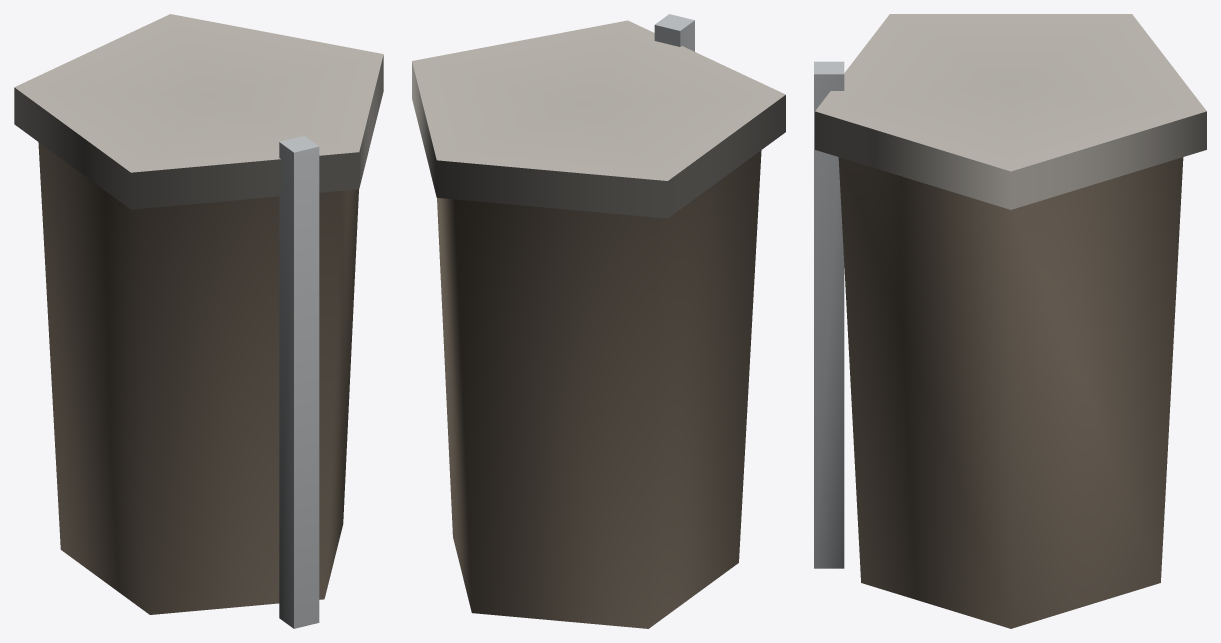
The model's file is litter_bin_park.lod2.glb.
The picture shows the model from 3 angles, left to right: view 1: azimuth 30°, elevation 25°; view 2: azimuth 150°, elevation 25°; view 3: azimuth 270°, elevation 25°; orthographic projection. The views are drawn at different scales.
Parts seen in each view (by area): view 1: props_litter_bin_park.lod2; view 2: props_litter_bin_park.lod2; view 3: props_litter_bin_park.lod2.
Part boxes in pixels (bbox=[...]): props_litter_bin_park.lod2: bbox=[14, 14, 383, 628]; props_litter_bin_park.lod2: bbox=[412, 14, 785, 628]; props_litter_bin_park.lod2: bbox=[814, 14, 1206, 628].
Bounding box in the file's own units: 0.6151 × 0.9 × 0.6484.
